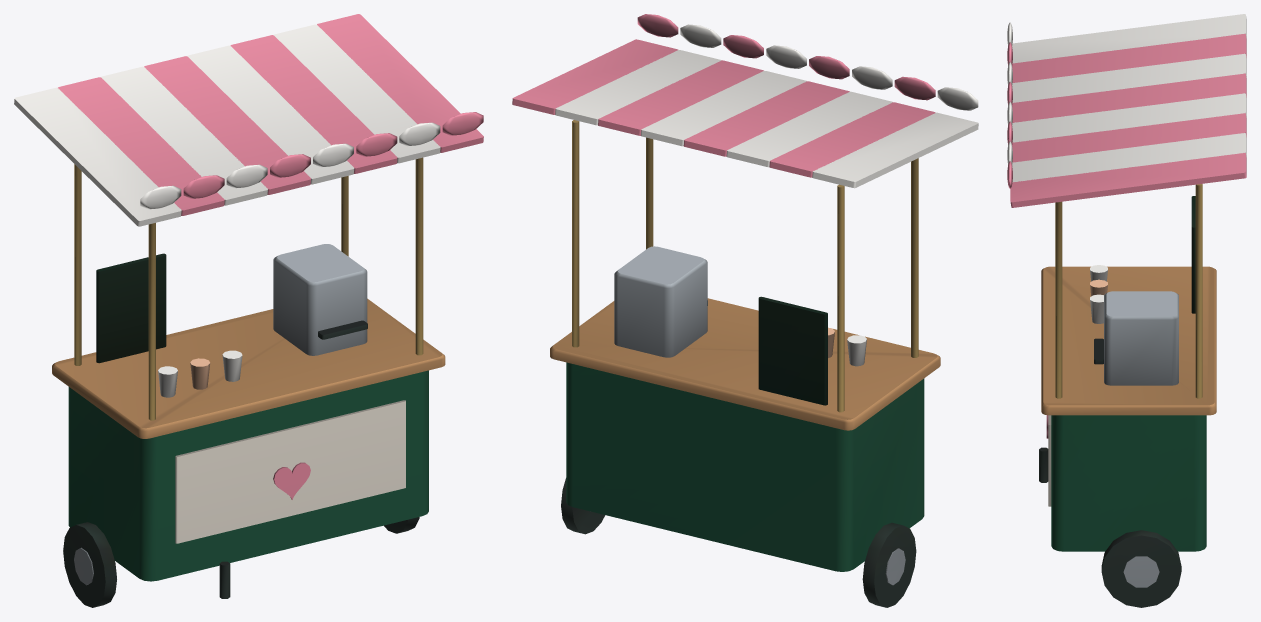
The model's file is xe-ca-phe.glb.
3 views of the same model, side by side, from view 1: azimuth 30°, elevation 25°; view 2: azimuth 150°, elevation 25°; view 3: azimuth 270°, elevation 25° (orthographic). The views are drawn at different scales.
Visible parts, largest first — view 1: xe-ca-phe; view 2: xe-ca-phe; view 3: xe-ca-phe.
Boxes of the visible parts, bbox=[...] form: xe-ca-phe: bbox=[14, 14, 483, 607]; xe-ca-phe: bbox=[512, 14, 978, 607]; xe-ca-phe: bbox=[1007, 14, 1246, 607].
Size of the model in its own units: 1.5 by 1.95 by 0.9572.
